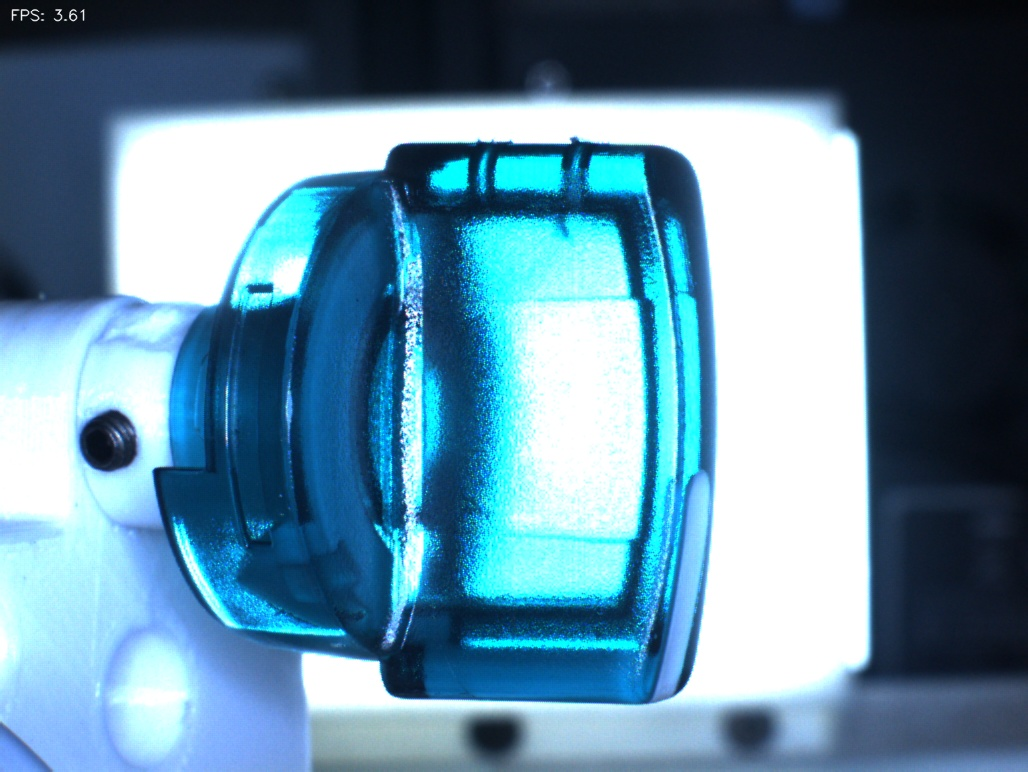Bulle: (533, 124, 624, 217)
